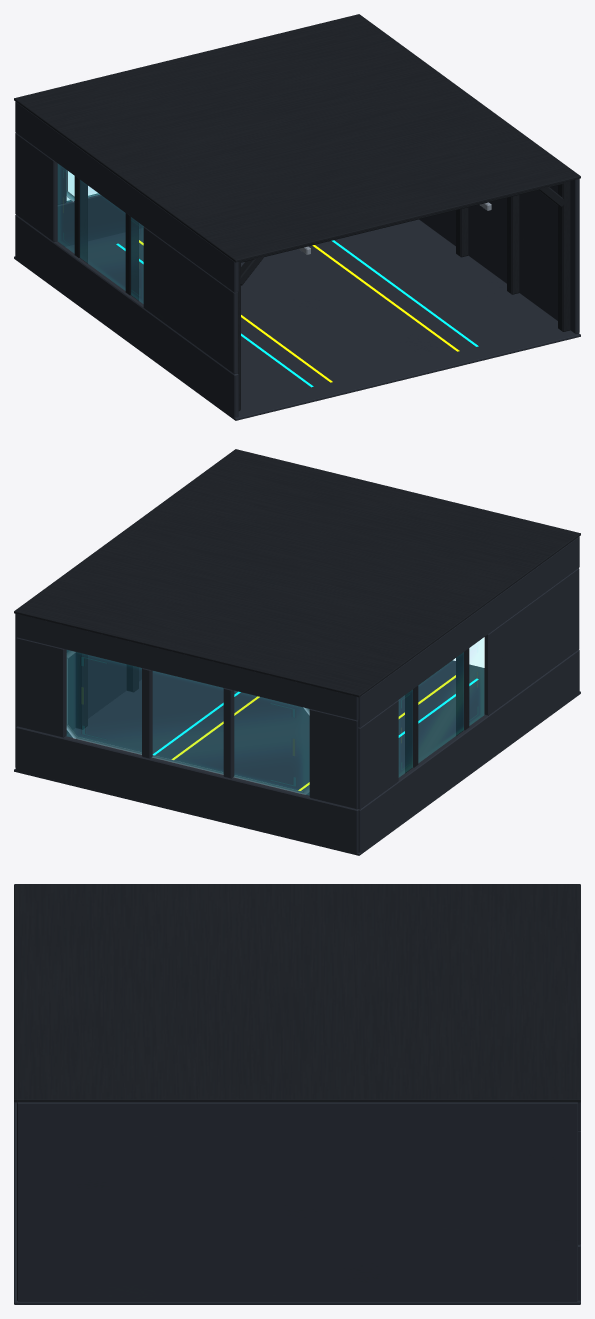
Rendered from room_10_shell.glb.
3 renders of one model, top to bottom at view 1: azimuth 30°, elevation 25°; view 2: azimuth 150°, elevation 25°; view 3: azimuth 270°, elevation 25°, orthographic. The views are drawn at different scales.
Visible parts, largest first — view 1: Room10_OctagonalTitaniumRibs, Room10_CarbonSlateDeckAndBulkheads, Room10_DualTranslucentLogisticsViewports, Room10_AmberHazardFloorGuides, Room10_CyanLoadingLaneGuides; view 2: Room10_CarbonSlateDeckAndBulkheads, Room10_OctagonalTitaniumRibs, Room10_DualTranslucentLogisticsViewports, Room10_BridgeCraneRailsAndBezels; view 3: Room10_OctagonalTitaniumRibs, Room10_CarbonSlateDeckAndBulkheads.
Boxes of the visible parts, x1,y1,x2,y2 form: Room10_OctagonalTitaniumRibs: (14,14,580,410); Room10_CarbonSlateDeckAndBulkheads: (14,101,580,420); Room10_DualTranslucentLogisticsViewports: (58,164,142,302); Room10_AmberHazardFloorGuides: (139,240,459,382); Room10_CyanLoadingLaneGuides: (116,240,478,387); Room10_CarbonSlateDeckAndBulkheads: (14,536,580,855); Room10_OctagonalTitaniumRibs: (14,449,580,773); Room10_DualTranslucentLogisticsViewports: (67,638,483,794); Room10_BridgeCraneRailsAndBezels: (66,650,309,794); Room10_OctagonalTitaniumRibs: (14,884,580,1102); Room10_CarbonSlateDeckAndBulkheads: (14,1102,580,1304).
Size of the model in its own units: 9 by 4 by 10.
Materials: 6 (6 with a texture image).
